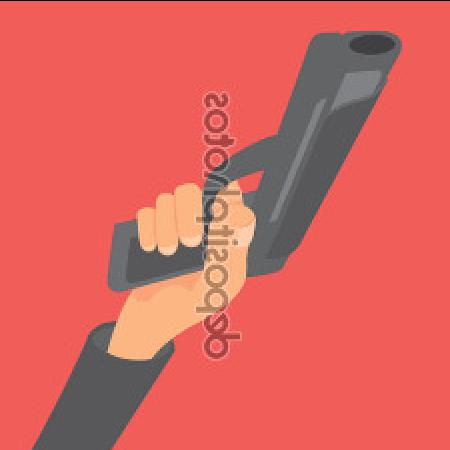Pistol: (110, 26, 404, 298)
